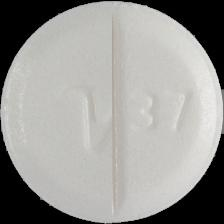66116-605: (0, 0, 224, 224)
